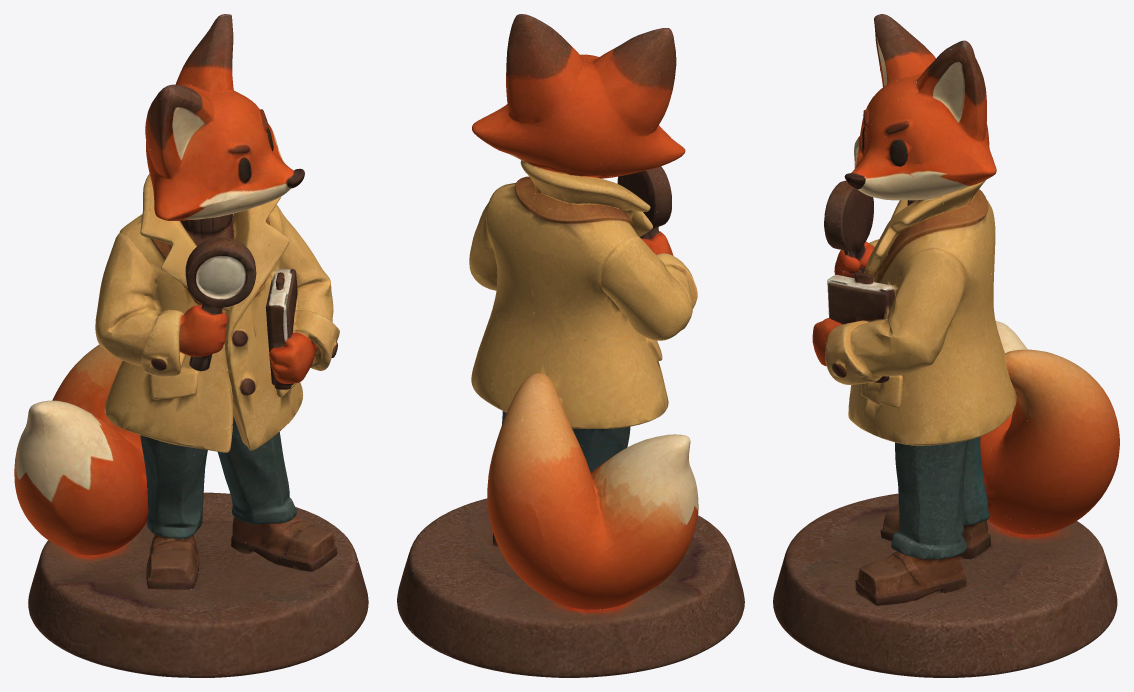
Rendered from web.glb.
3 views of the same model, side by side, from view 1: azimuth 30°, elevation 25°; view 2: azimuth 150°, elevation 25°; view 3: azimuth 270°, elevation 25° (orthographic). The views are drawn at different scales.
Parts seen in each view (by area): view 1: fox; view 2: fox; view 3: fox.
Boxes of the visible parts, x1,y1,x2,y2 form: fox: (14,14,368,677); fox: (397,14,744,677); fox: (773,14,1119,677).
Bounding box in the file's own units: 0.5355 × 1 × 0.5395.
Materials: 1 (1 with a texture image).
